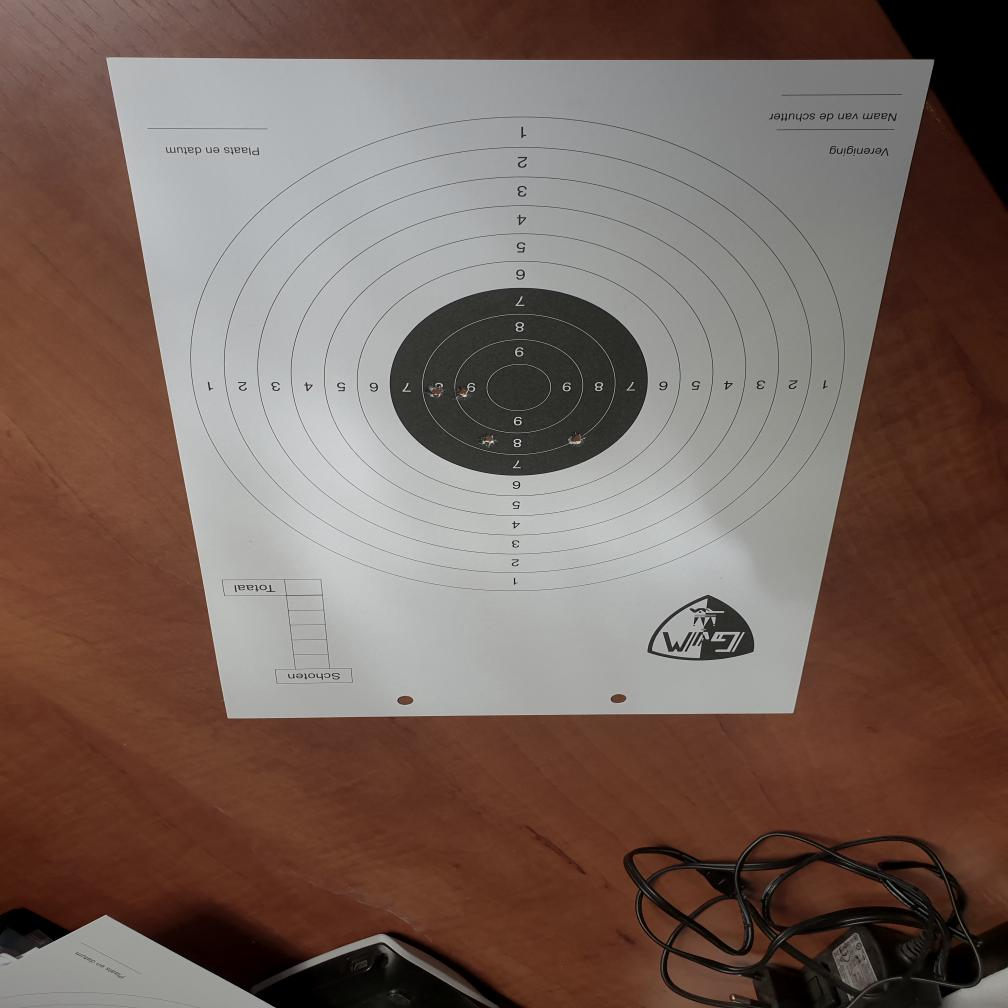8: (424, 383, 446, 400), (567, 431, 587, 447), (478, 433, 498, 448)
9: (453, 385, 473, 401)
Target: (190, 116, 843, 593)
black_contour: (389, 287, 646, 477)
